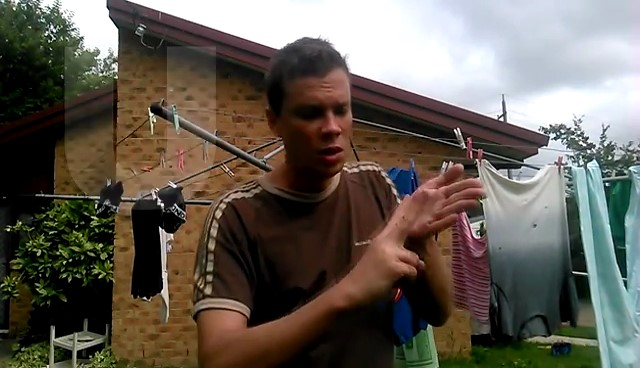V: (348, 153, 498, 307)
